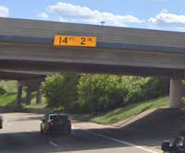1: (57, 35, 62, 45)
2: (78, 36, 86, 45)
4: (61, 35, 68, 46)
overheadsign: (52, 34, 97, 48)
